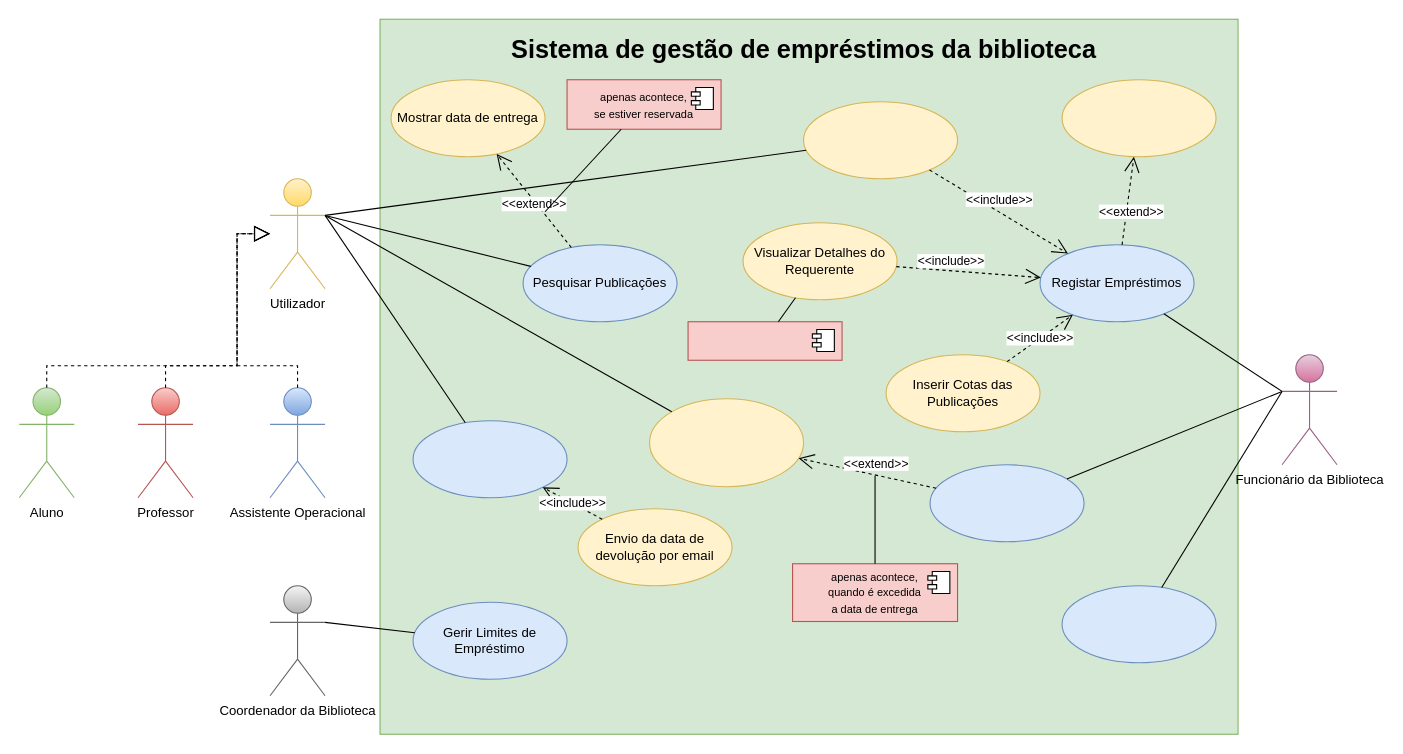
This 1403x754 diagram has some shape labels left out. The centre of each missing label's shape, as x and y in pixels:
"Consultar Empréstimos Vencidos" goes at [1138,624].
"Envio de email com cobrança da multa calculada" goes at [726,442].
"Informar sobre Publicações Indisponíveis" goes at [1138,118].
"Inserir Número de Processo" goes at [880,140].
"Nome e fotografia" goes at [764,340].
"Registar Devoluções" goes at [1006,503].
"Reservar Publicações" goes at [489,459].
